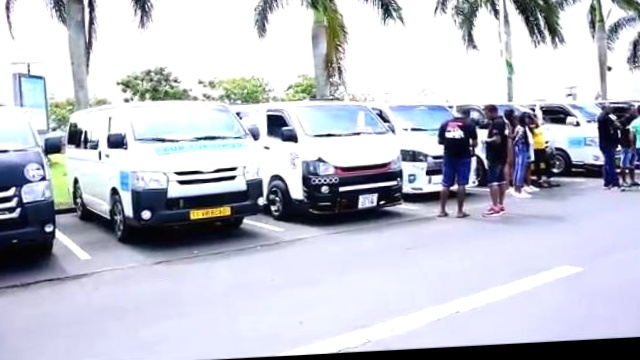van: (58, 98, 260, 253), (252, 96, 405, 218)
